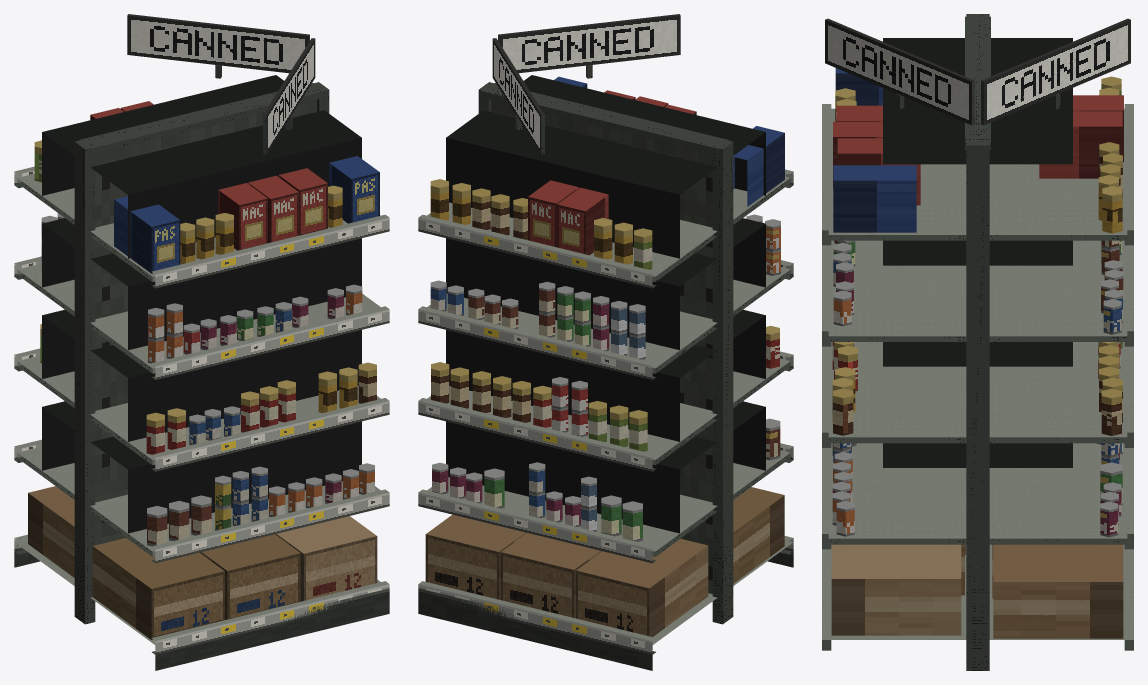
The model's file is gondola_canned.glb.
3 views of the same model, side by side, from view 1: azimuth 30°, elevation 25°; view 2: azimuth 150°, elevation 25°; view 3: azimuth 270°, elevation 25° (orthographic). The views are drawn at different scales.
Visible parts, largest first — view 1: GondolaCanned; view 2: GondolaCanned; view 3: GondolaCanned.
Part boxes in pixels (box(x1,y1,x2,y2)): GondolaCanned: box(14, 14, 389, 670); GondolaCanned: box(418, 14, 793, 670); GondolaCanned: box(822, 14, 1133, 670).
Size of what is drawn, in the model's own units: 1.2 by 2.47 by 1.2.
1 material, 1 textured.
